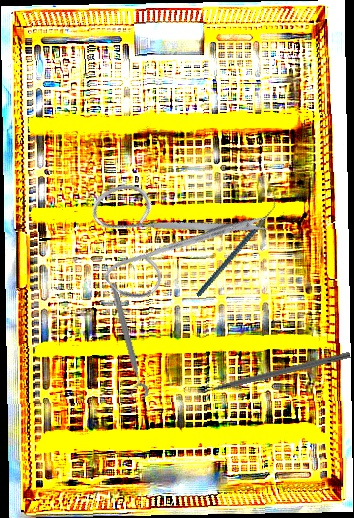Chopper: (173, 196, 300, 297)
Fixation Ring: (100, 281, 150, 401)
Hook Surgical: (194, 349, 351, 397)
Iris Scissors: (59, 121, 277, 340)
